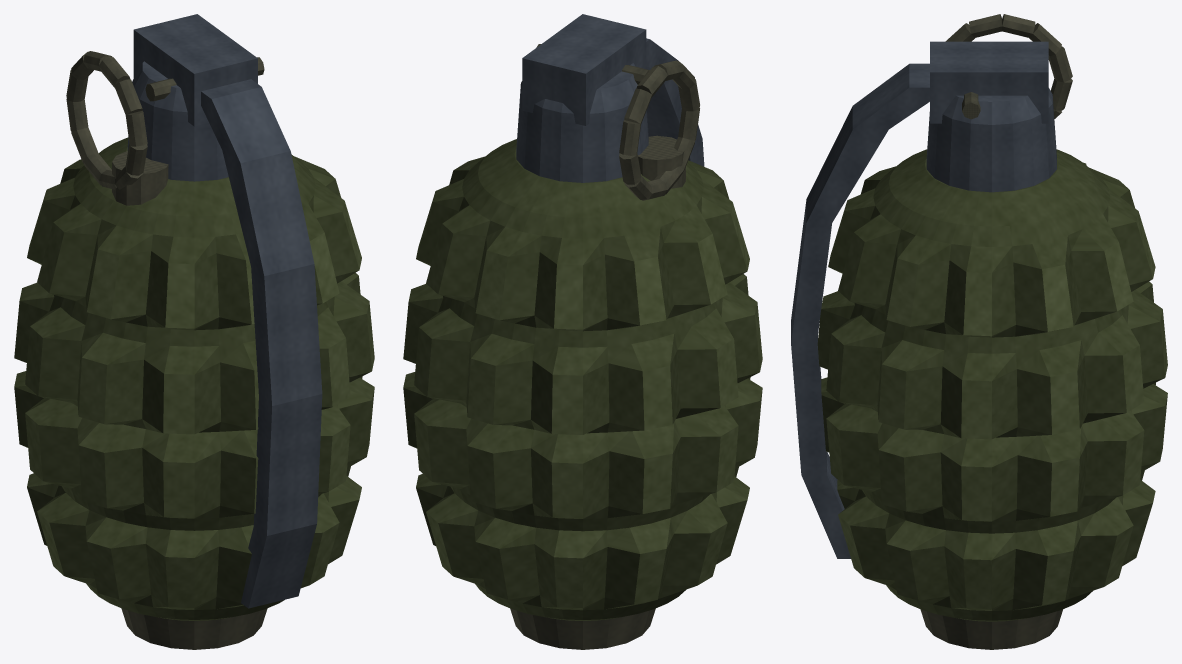
File: mills_bomb.glb
The picture shows the model from 3 angles, left to right: view 1: azimuth 30°, elevation 25°; view 2: azimuth 150°, elevation 25°; view 3: azimuth 270°, elevation 25°; orthographic projection. The views are drawn at different scales.
Visible parts, largest first — view 1: mills_bomb.body; view 2: mills_bomb.body; view 3: mills_bomb.body.
Boxes of the visible parts, bbox=[...] form: mills_bomb.body: bbox=[14, 14, 374, 649]; mills_bomb.body: bbox=[403, 14, 762, 649]; mills_bomb.body: bbox=[791, 14, 1167, 649].
Size of the model in its own units: 0.0971 by 0.1743 by 0.1039.
Materials: 4 (4 with a texture image).
